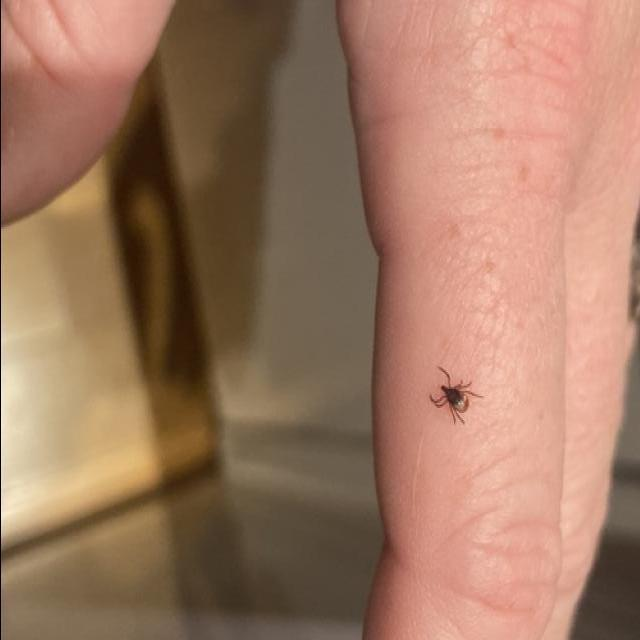Ixodes Ricinus-F: (426, 365, 486, 427)
